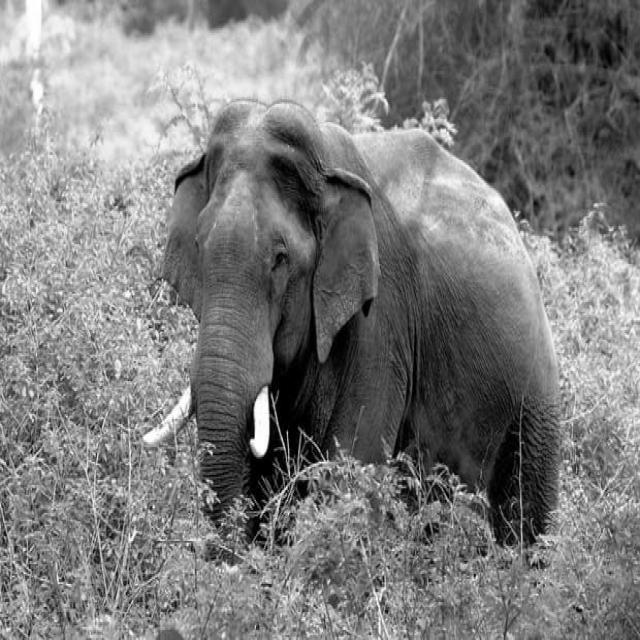Elephant: (143, 96, 562, 569)
